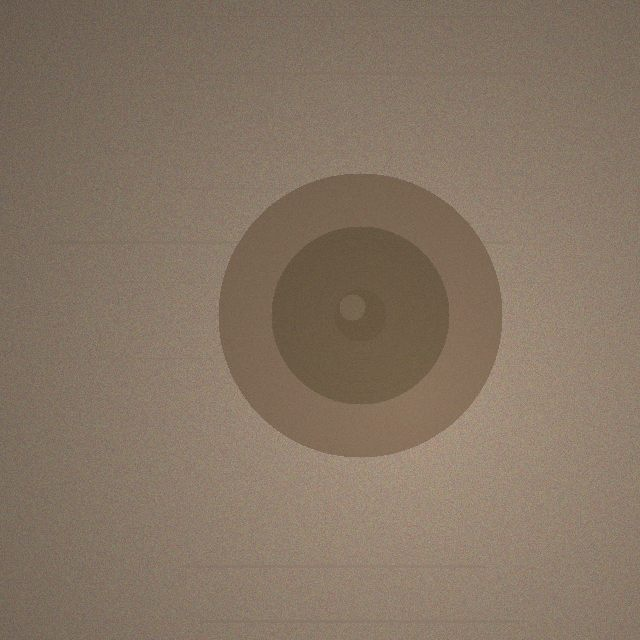good: (218, 173, 502, 457)
